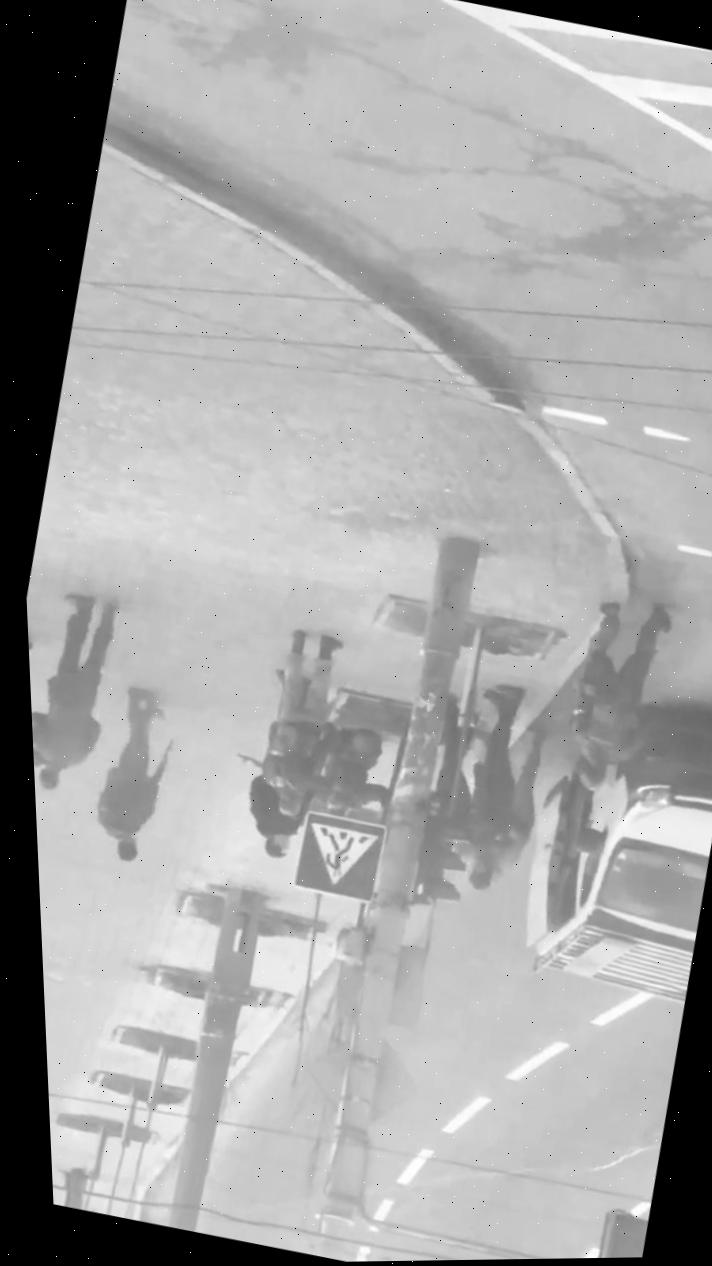person: (547, 588, 685, 803), (221, 619, 356, 824), (26, 587, 133, 799), (80, 684, 190, 867), (437, 677, 541, 869), (453, 721, 557, 899), (234, 758, 318, 865)
